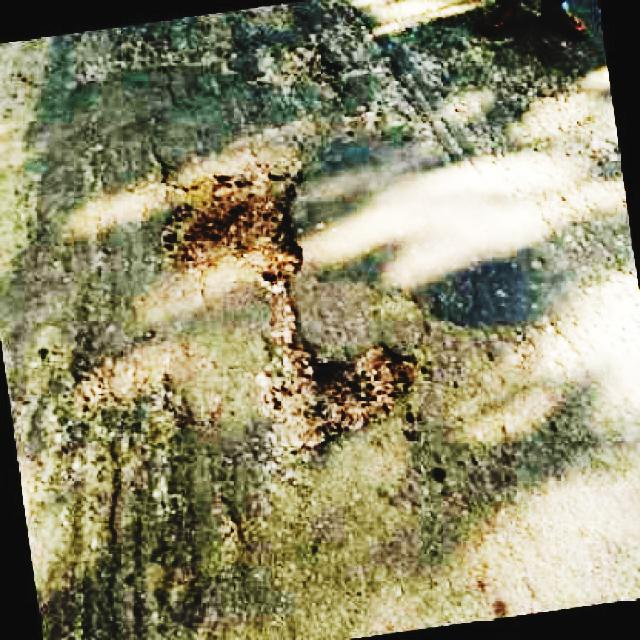pothole: (152, 168, 422, 455)
